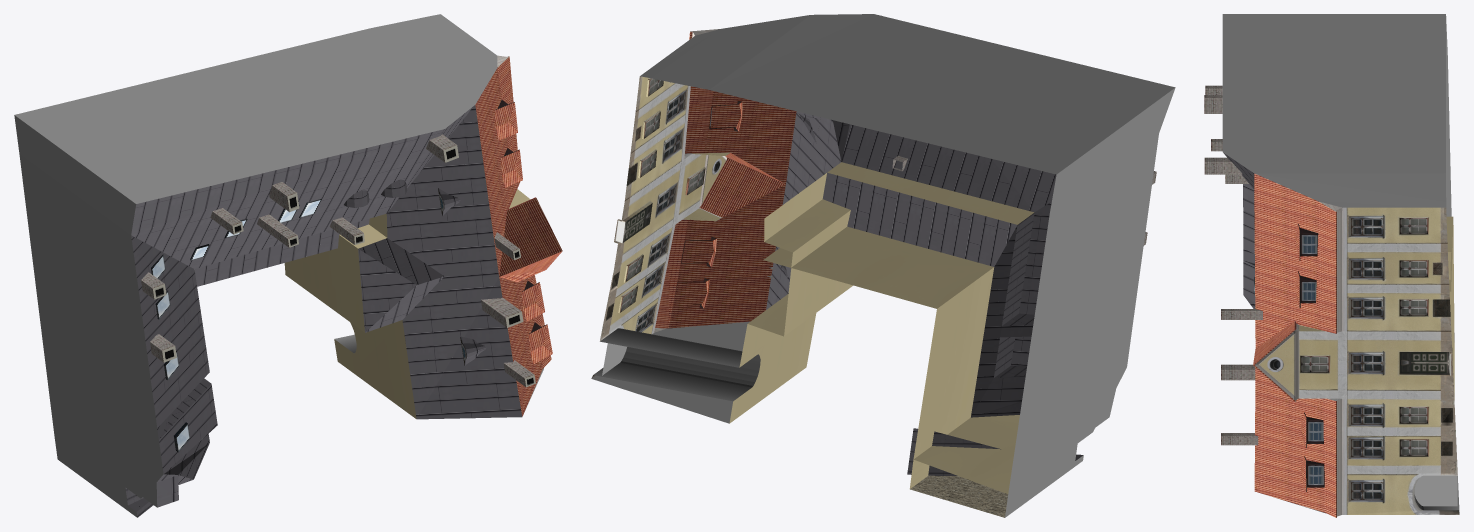
Rendered from Toom-Kooli_7.obj.
3 views of the same model, side by side, from view 1: azimuth 30°, elevation 25°; view 2: azimuth 150°, elevation 25°; view 3: azimuth 270°, elevation 25° (orthographic). The views are drawn at different scales.
Parts seen in each view (by area): view 1: Toom_Kooli_7; view 2: Toom_Kooli_7; view 3: Toom_Kooli_7.
Part boxes in pixels (left/top/right/bottom): Toom_Kooli_7: left=14, top=14, right=562, bottom=517; Toom_Kooli_7: left=591, top=14, right=1175, bottom=517; Toom_Kooli_7: left=1204, top=14, right=1459, bottom=517.
Bounding box in the file's own units: 35.68 × 25.7 × 18.04.
